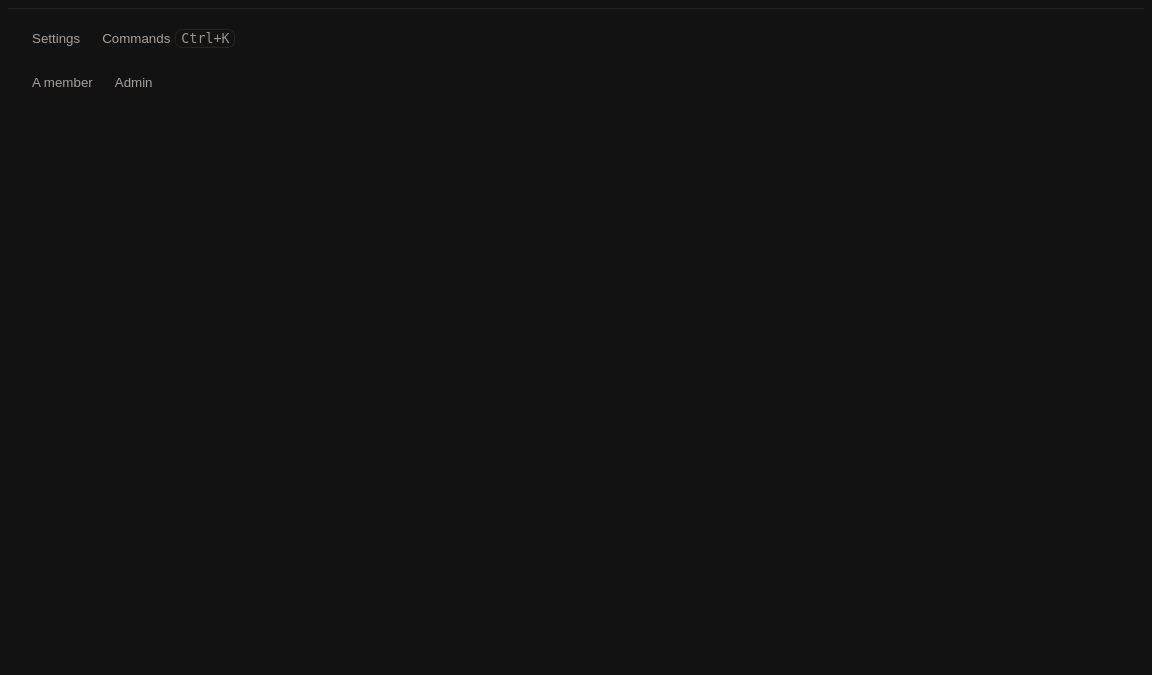
Scenario: keeps an ordinary Admin's workspace policy read-only and only offers member creation
Click the button "Admin": x=134, y=82 x1=107 y1=64 x2=161 y2=100
(page scrolled)
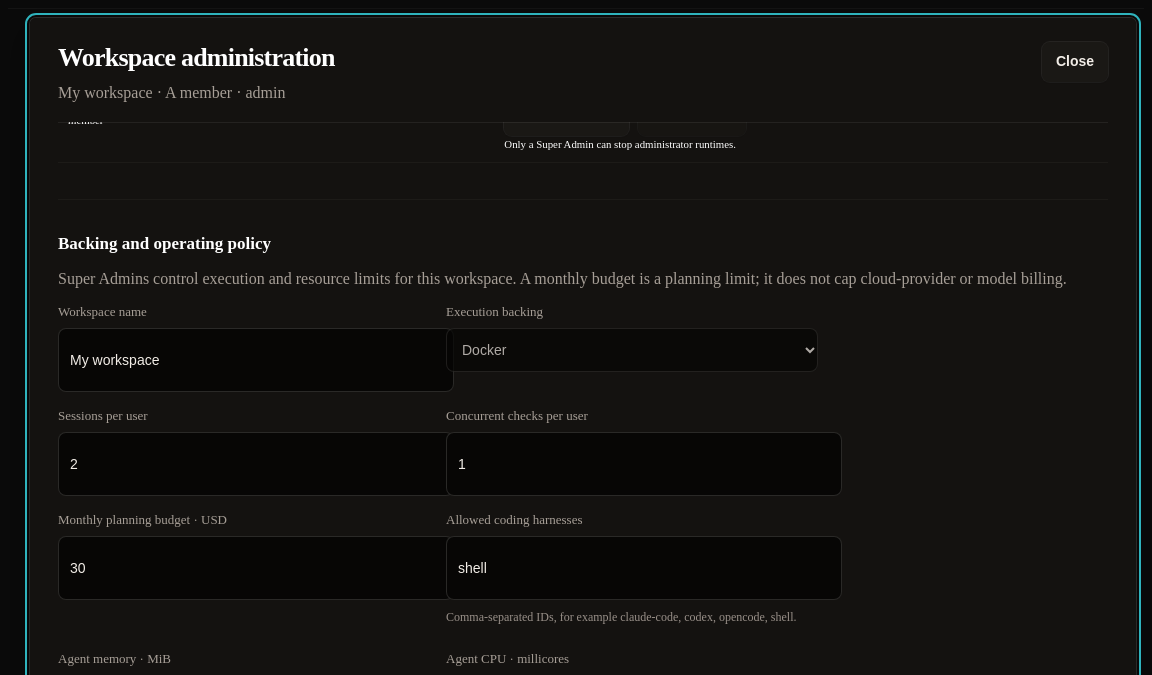
Check: the field labelled "Workspace name" is disabled, box x1=58 y1=328 x2=454 y2=392
